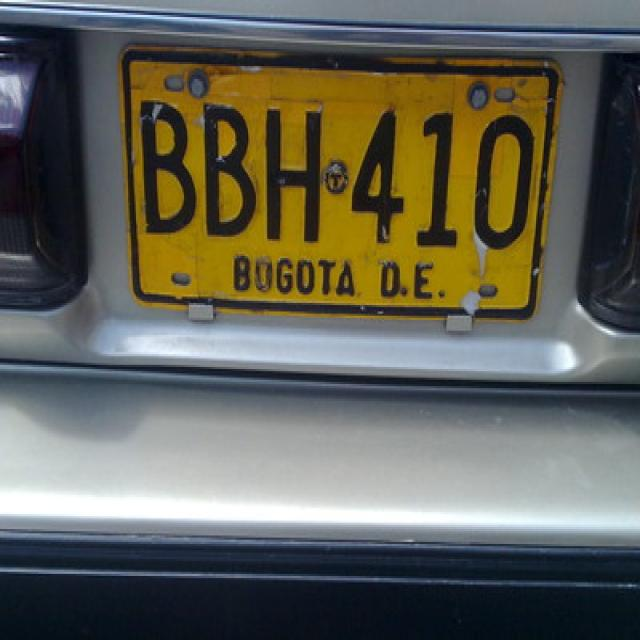placa_carro: (119, 33, 565, 325)
